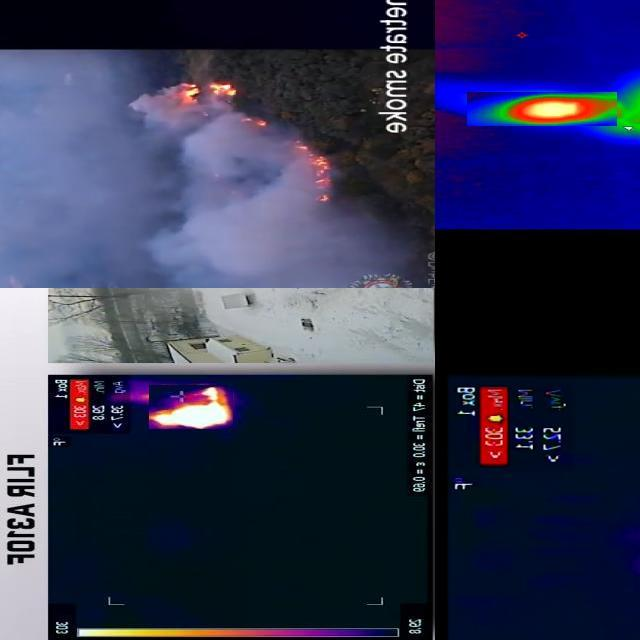fire: (468, 92, 618, 126), (150, 385, 234, 429)
